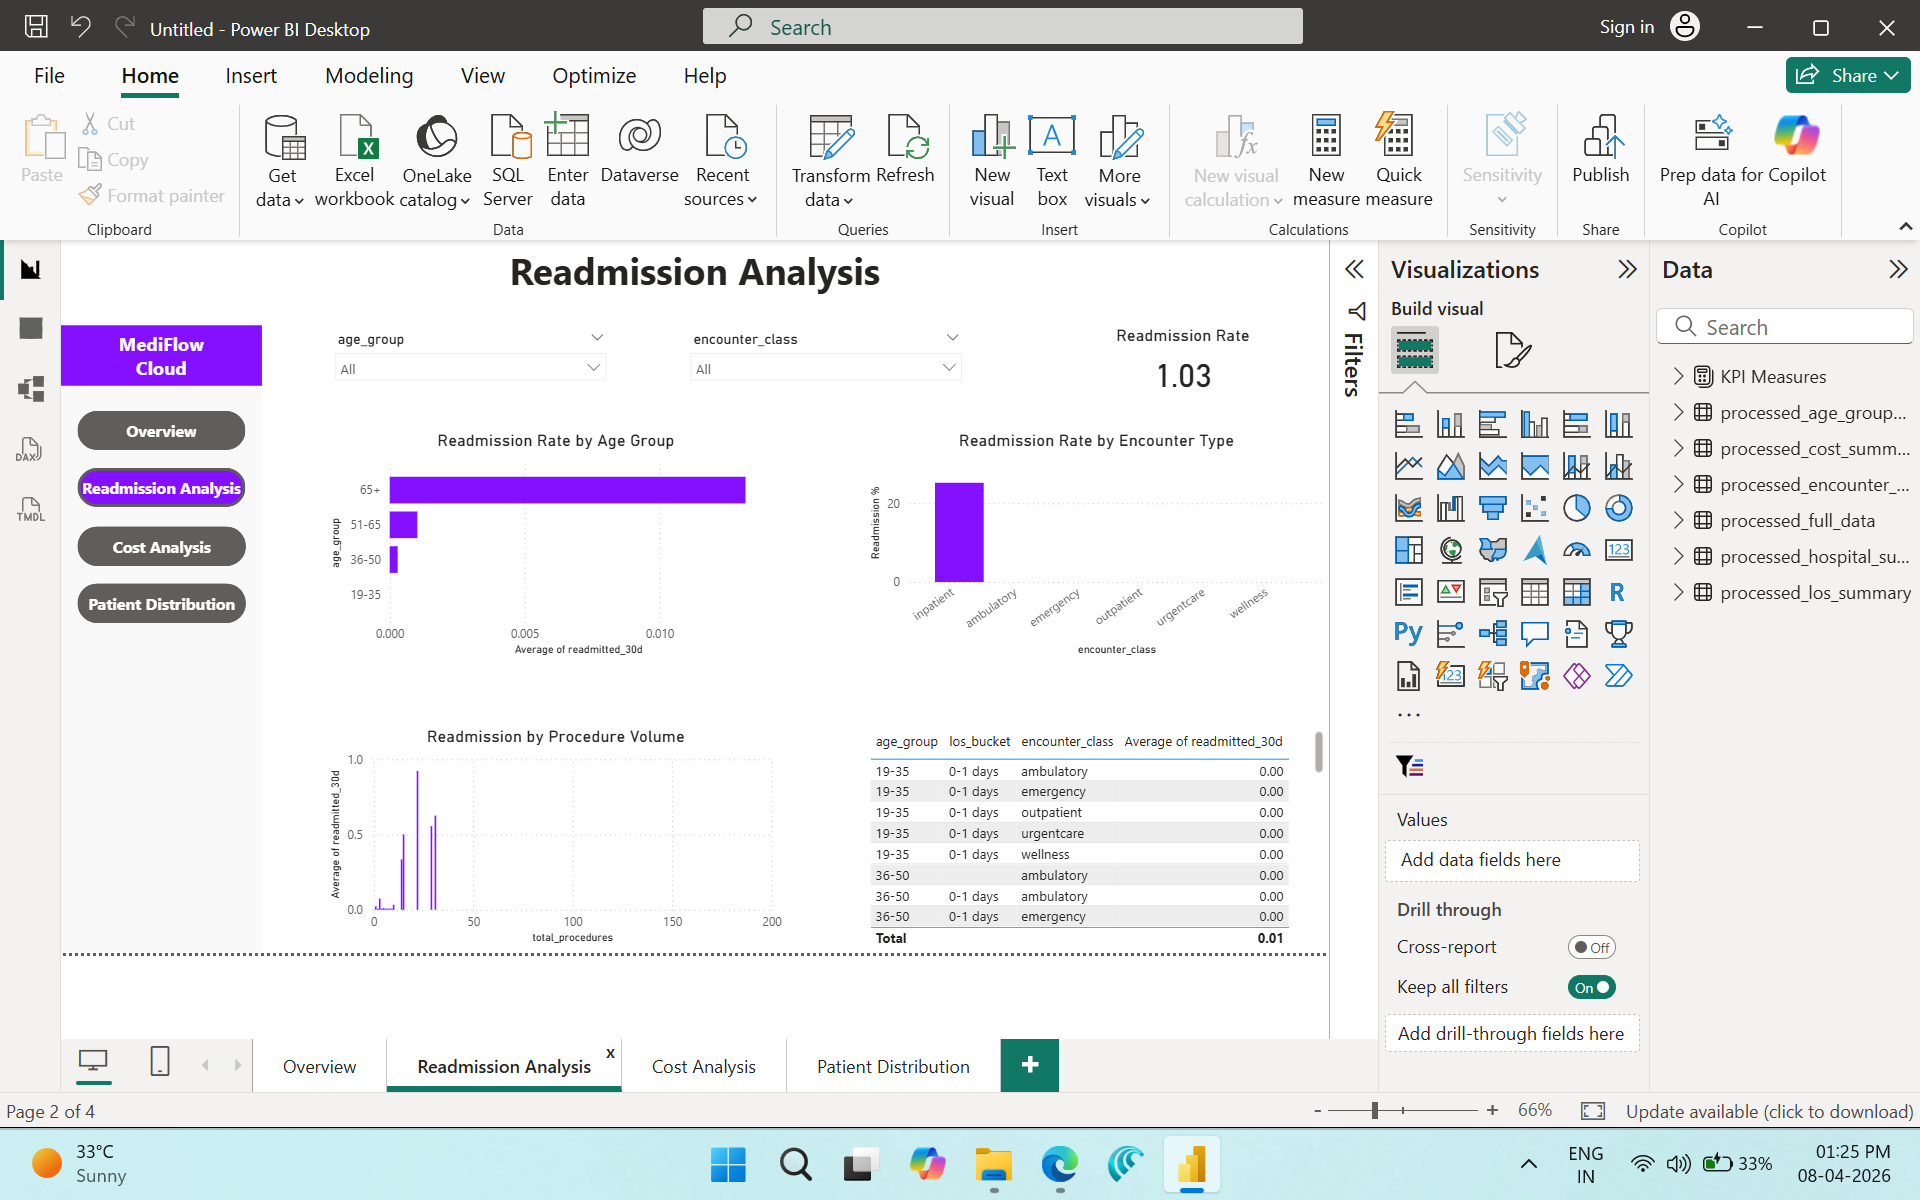

The dashboard page shown, as its layout file describes it:
{"tool":"powerbi","page":{"name":"Readmission Analysis","canvas":[1280,720],"ordinal":1},"visuals":[{"type":"textbox","box":[0,0,1279.5,63.6],"z":0},{"type":"slicer","fields":{"Values":["processed_full_data.age_group"]},"box":[266.5,86.3,293.8,75.7],"z":1000},{"type":"slicer","fields":{"Values":["processed_full_data.encounter_class"]},"box":[625.4,86.3,293.8,75.7],"z":2000},{"type":"card","title":"Readmission Rate","fields":{"Values":["KPI Measures.Readmission Rate"]},"box":[985.7,86.3,293.8,75.7],"z":3000},{"type":"clusteredBarChart","title":"Readmission Rate by Age Group","fields":{"Category":["processed_full_data.age_group"],"Y":["Avg(processed_full_data.readmitted_30d)"]},"box":[266.5,192.3,466.4,231.7],"z":4000},{"type":"clusteredColumnChart","title":"Readmission Rate by Encounter Type","fields":{"Category":["processed_full_data.encounter_class"],"Y":["KPI Measures.Readmission %"]},"box":[811.6,192.3,467.9,231.7],"z":5000},{"type":"clusteredColumnChart","title":"Readmission by Procedure Volume","fields":{"Y":["Avg(processed_full_data.readmitted_30d)"],"Category":["processed_full_data.total_procedures"]},"box":[266.5,490.6,466.4,224.1],"z":6000},{"type":"tableEx","fields":{"Values":["processed_full_data.age_group","processed_full_data.los_bucket","processed_full_data.encounter_class","Avg(processed_full_data.readmitted_30d)"]},"box":[811.6,490.6,467.9,228.6],"z":7000},{"type":"shape","box":[0,86.3,202.9,60.6],"z":8000},{"type":"shape","box":[0,83.3,202.9,636],"z":9000},{"type":"actionButton","box":[16.7,172.6,169.6,39.4],"z":10000},{"type":"actionButton","box":[16.7,230.2,169.6,39.4],"z":11000},{"type":"actionButton","box":[16.7,289.2,170,40],"z":12000},{"type":"actionButton","box":[16.7,346.8,170,40],"z":13000},{"type":"textbox","box":[0,86.3,202.9,60.6],"z":14000}]}

Visuals, with their boxes on the page's 1280x720 design canvas (x1, y1, x2, y2). These are canvas units, not pixel positions in the 1920x1200 screenshot, which may show the page scaled, cropped or inside an application window:
textbox: detection(0, 0, 1280, 64)
slicer - processed_full_data.age_group: detection(266, 86, 560, 162)
slicer - processed_full_data.encounter_class: detection(625, 86, 919, 162)
"Readmission Rate" card: detection(986, 86, 1280, 162)
"Readmission Rate by Age Group" clusteredBarChart: detection(266, 192, 733, 424)
"Readmission Rate by Encounter Type" clusteredColumnChart: detection(812, 192, 1280, 424)
"Readmission by Procedure Volume" clusteredColumnChart: detection(266, 491, 733, 715)
tableEx - processed_full_data.age_group x processed_full_data.los_bucket: detection(812, 491, 1280, 719)
shape: detection(0, 86, 203, 147)
shape: detection(0, 83, 203, 719)
actionButton: detection(17, 173, 186, 212)
actionButton: detection(17, 230, 186, 270)
actionButton: detection(17, 289, 187, 329)
actionButton: detection(17, 347, 187, 387)
textbox: detection(0, 86, 203, 147)
